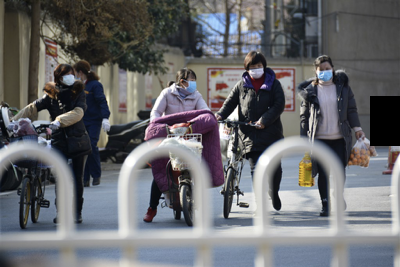with_mask: (248, 61, 265, 79), (317, 65, 334, 81), (184, 76, 198, 92), (62, 71, 76, 85)
